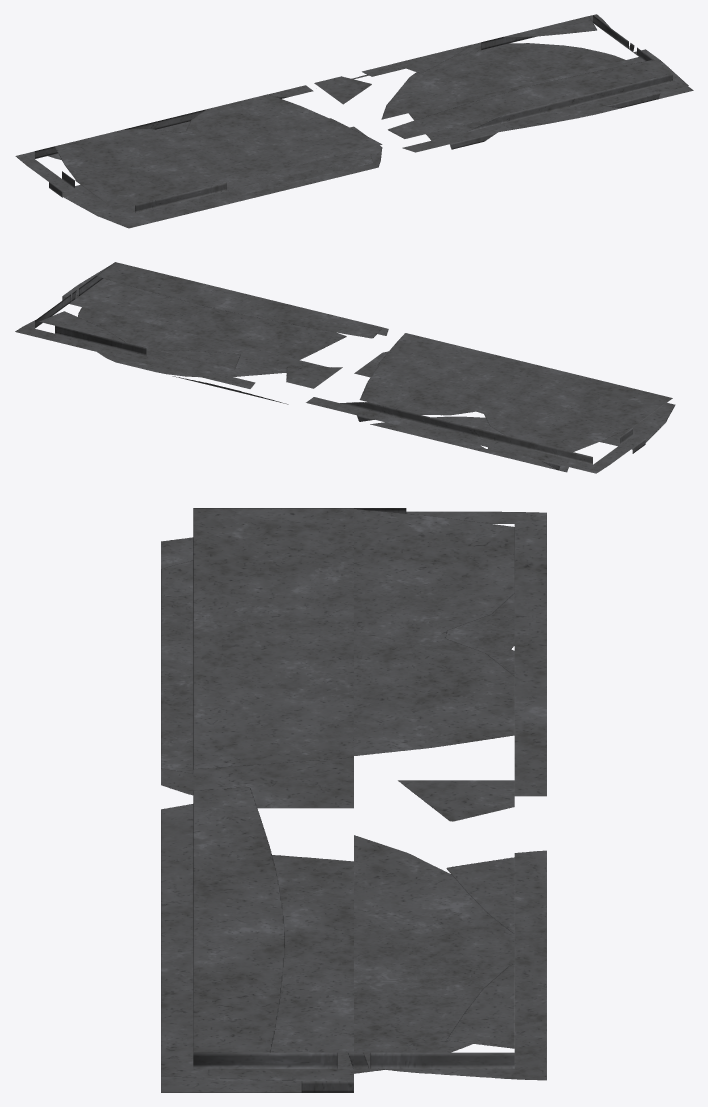
File: stairs.fbx
The picture shows the model from 3 angles, top to bottom: view 1: azimuth 30°, elevation 25°; view 2: azimuth 150°, elevation 25°; view 3: azimuth 270°, elevation 25°; orthographic projection. The views are drawn at different scales.
Visible parts, largest first — view 1: stairs; view 2: stairs; view 3: stairs.
Part boxes in pixels (x1,y1,x2,y2): stairs: (15, 14, 693, 228); stairs: (15, 262, 675, 473); stairs: (161, 508, 546, 1092).
Size of the model in its own units: 811 by 18.68 by 232.
